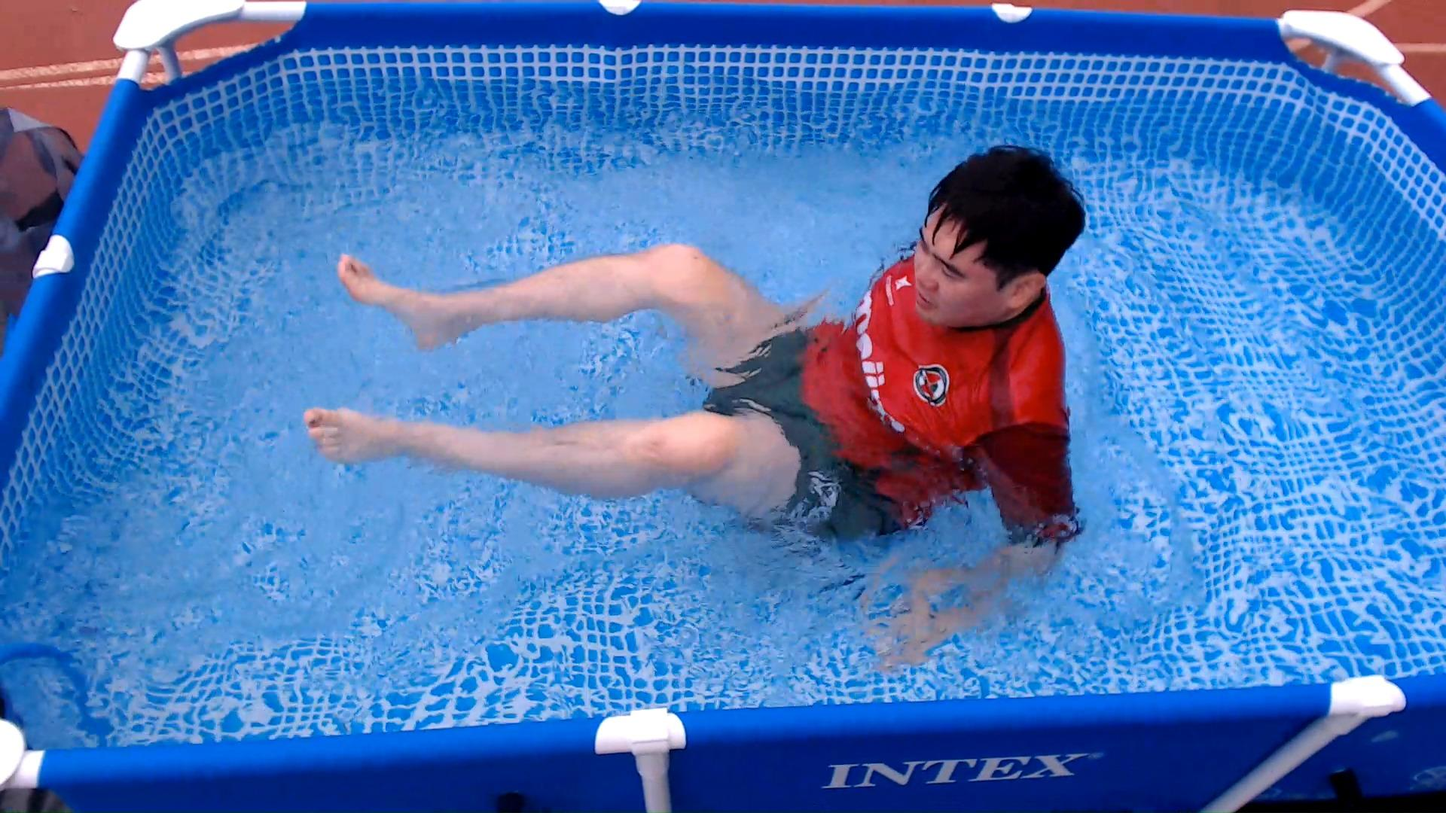Swimming: (280, 118, 1128, 593)
